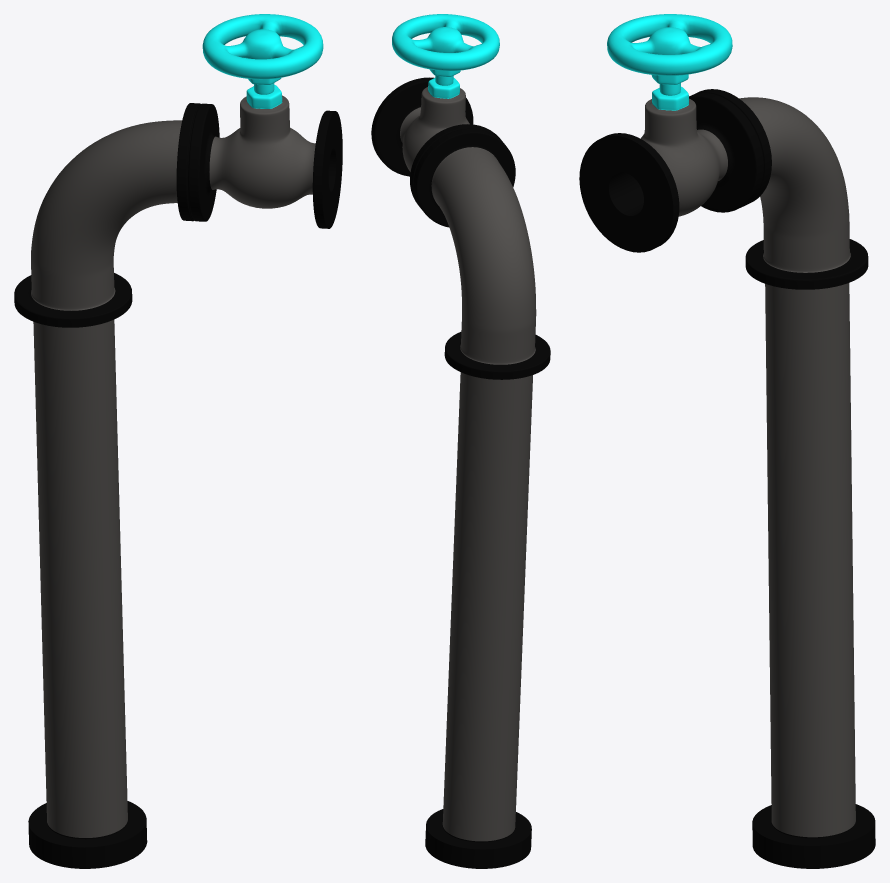
The picture shows the model from 3 angles, left to right: view 1: azimuth 30°, elevation 25°; view 2: azimuth 150°, elevation 25°; view 3: azimuth 270°, elevation 25°; orthographic projection. The views are drawn at different scales.
Visible parts, largest first — view 1: 378; view 2: 378; view 3: 378.
Boxes of the visible parts, x1=… form: 378: x1=14, y1=14, x2=342, y2=868; 378: x1=371, y1=14, x2=550, y2=868; 378: x1=579, y1=14, x2=875, y2=868.
Size of the model in its own units: 19.61 by 18.86 by 61.12.
